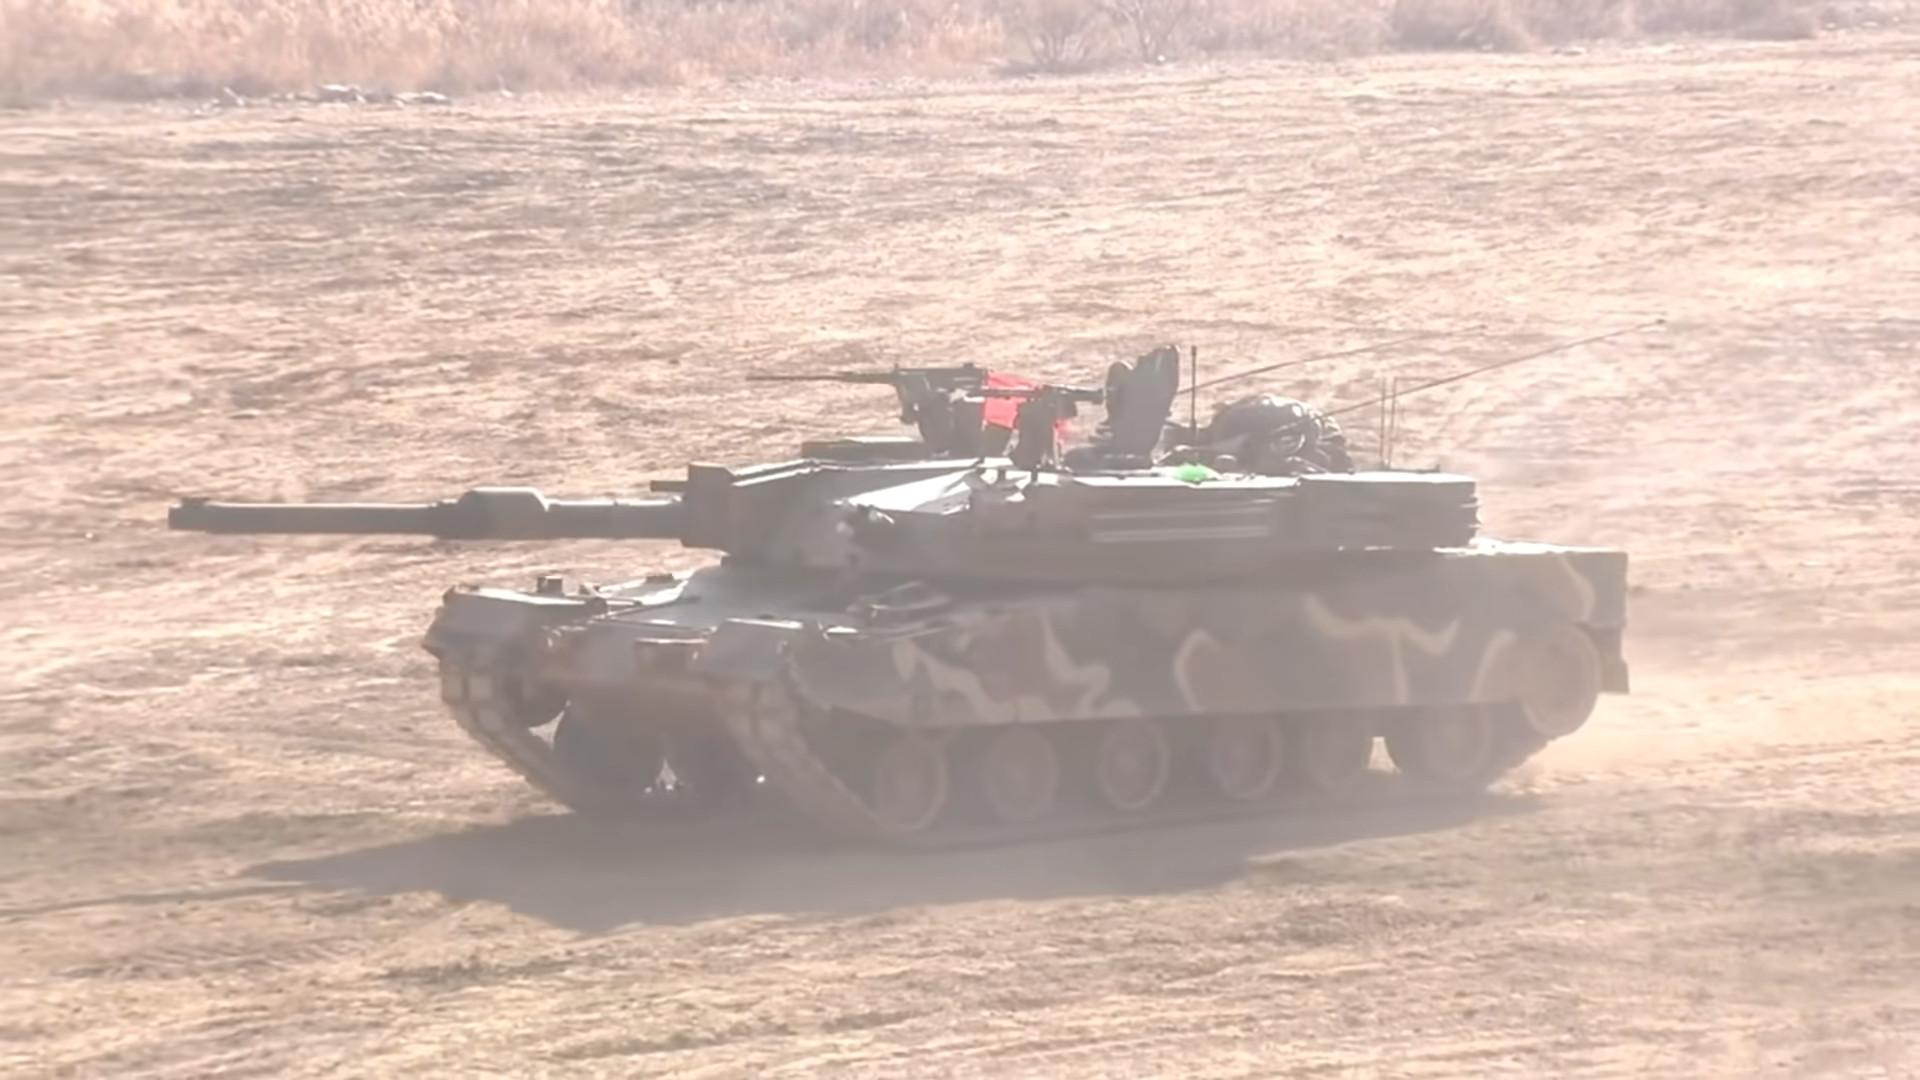tank: (166, 344, 1633, 852)
